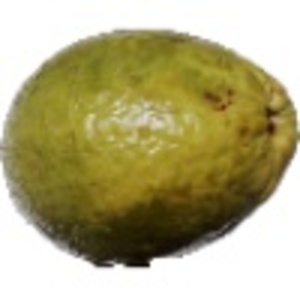goiaba: (5, 11, 296, 271)
